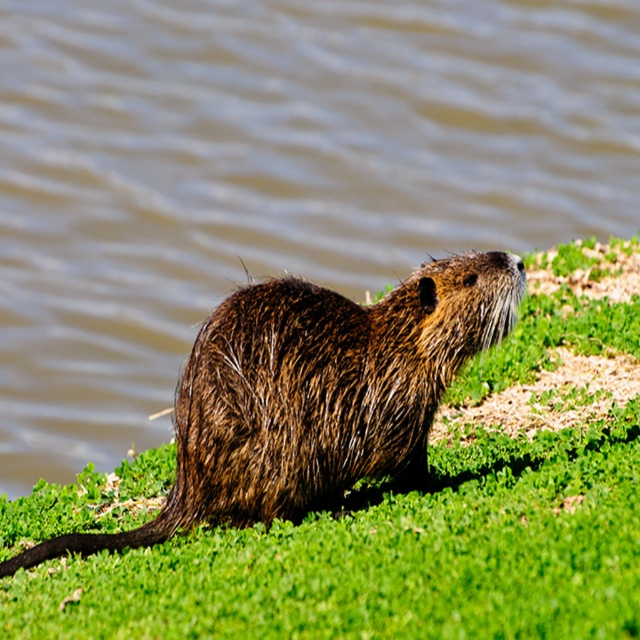Otter: (0, 242, 526, 580)
